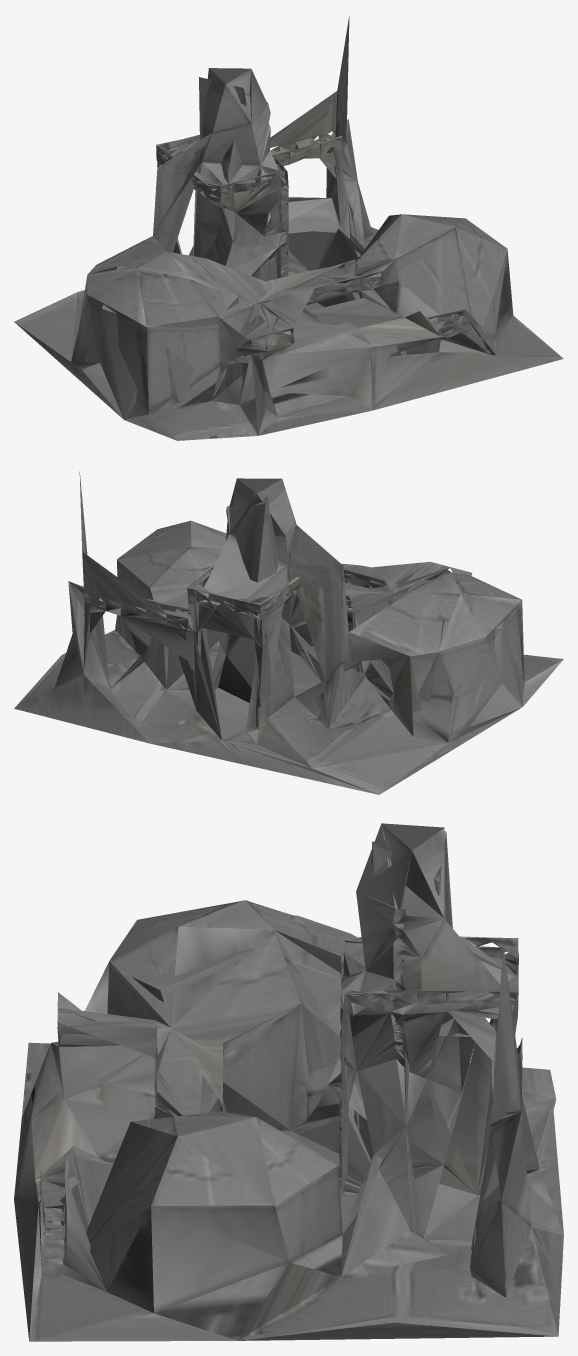
Rendered from imperial_fuel_refinery_lod2.glb.
The picture shows the model from 3 angles, top to bottom: view 1: azimuth 30°, elevation 25°; view 2: azimuth 150°, elevation 25°; view 3: azimuth 270°, elevation 25°; orthographic projection. The views are drawn at different scales.
Visible parts, largest first — view 1: mesh_node; view 2: mesh_node; view 3: mesh_node.
Part boxes in pixels (left/top/right/bottom): mesh_node: left=14, top=16, right=563, bottom=440; mesh_node: left=14, top=471, right=563, bottom=794; mesh_node: left=14, top=823, right=563, bottom=1341.
Bounding box in the file's own units: 31.53 × 18.5 × 25.66.
Materials: 1 (1 with a texture image).
